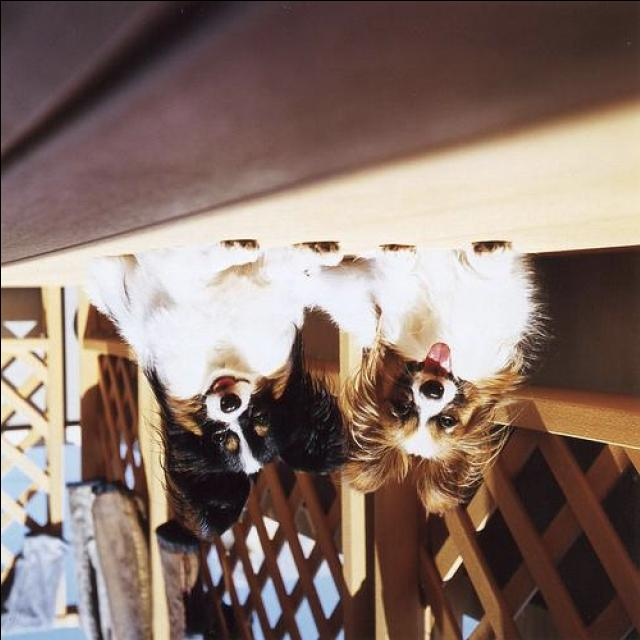papillon: (85, 236, 358, 546), (306, 218, 535, 516)
